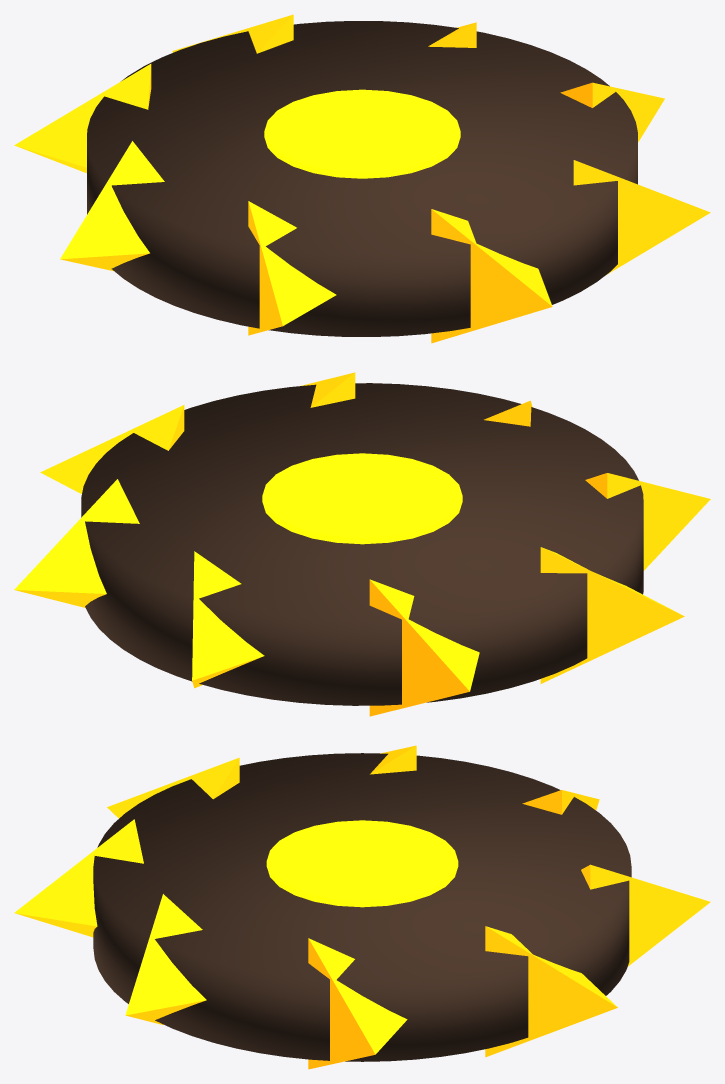
File: disco_wasteland_apocalypse.glb
3 views of the same model, one above another, from view 1: azimuth 30°, elevation 25°; view 2: azimuth 150°, elevation 25°; view 3: azimuth 270°, elevation 25° (orthographic). The views are drawn at different scales.
Parts seen in each view (by area): view 1: Cylinder, Cylinder.001, Cone.006, Cone.004, Cone.007, Cone.005, Cone.003, Cone, Cone.002, Cone.001; view 2: Cylinder, Cylinder.001, Cone.003, Cone.004, Cone.001, Cone.002, Cone.005, Cone, Cone.007, Cone.006; view 3: Cylinder, Cylinder.001, Cone.001, Cone, Cone.006, Cone.007, Cone.002, Cone.005, Cone.003, Cone.004.
Boxes of the visible parts, x1,y1,x2,y2 form: Cylinder: (87, 21, 637, 336); Cylinder.001: (264, 89, 460, 178); Cone.006: (431, 209, 552, 343); Cone.004: (60, 141, 164, 271); Cone.007: (573, 160, 710, 274); Cone.005: (248, 201, 336, 335); Cone.003: (14, 64, 151, 173); Cone: (560, 82, 664, 142); Cone.002: (172, 14, 293, 53); Cone.001: (428, 22, 476, 47); Cylinder: (81, 383, 643, 705); Cylinder.001: (262, 453, 462, 544); Cone.003: (369, 579, 479, 716); Cone.004: (540, 547, 684, 683); Cone.001: (14, 479, 139, 607); Cone.002: (192, 551, 264, 688); Cone.005: (585, 473, 710, 570); Cone: (40, 405, 184, 493); Cone.007: (301, 372, 355, 407); Cone.006: (484, 400, 532, 426); Cylinder: (93, 753, 631, 1061); Cylinder.001: (266, 820, 458, 907); Cone.001: (485, 926, 617, 1057); Cone: (308, 938, 407, 1069); Cone.006: (14, 819, 143, 937); Cone.007: (125, 894, 206, 1024); Cone.002: (581, 864, 710, 966); Cone.005: (107, 757, 239, 818); Cone.003: (522, 790, 599, 814); Cone.004: (370, 745, 416, 774).
Size of the model in its own units: 0.1166 by 0.0242 by 0.1166.
